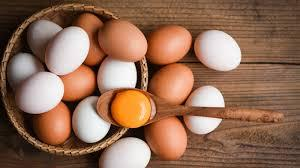egg: (44, 24, 89, 76), (16, 71, 66, 115), (195, 28, 242, 74), (98, 18, 147, 62), (184, 87, 226, 137), (148, 21, 192, 66), (144, 116, 189, 158), (96, 137, 152, 168), (73, 96, 109, 143), (151, 64, 192, 104), (94, 56, 140, 90), (34, 101, 70, 143), (57, 66, 96, 100), (26, 18, 62, 52), (7, 48, 38, 82)
